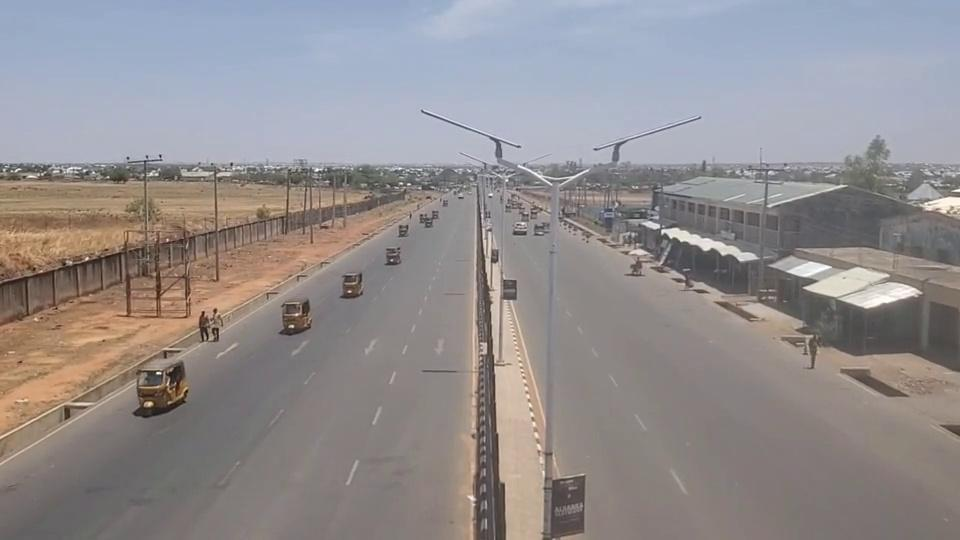car: (513, 221, 528, 235)
keke: (135, 354, 188, 411), (280, 297, 312, 333), (341, 271, 363, 297), (385, 247, 402, 265), (534, 222, 546, 235), (530, 206, 540, 217), (424, 216, 433, 227), (520, 209, 529, 219), (442, 199, 449, 206)
